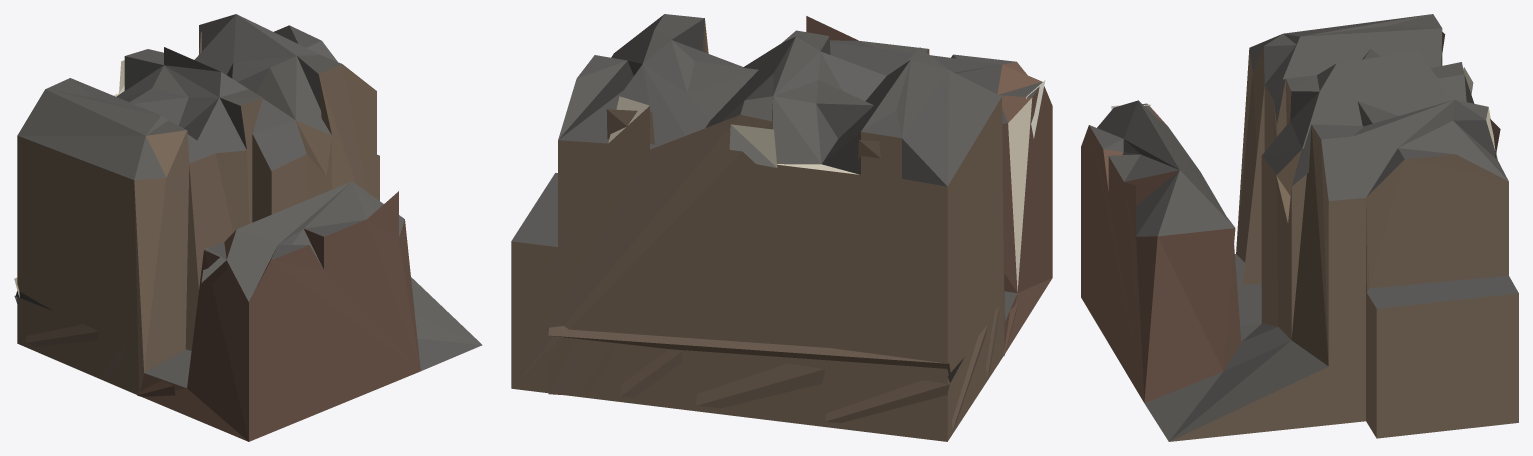
File: hotel-v-frederiksplein.lod2.glb
3 views of the same model, side by side, from view 1: azimuth 30°, elevation 25°; view 2: azimuth 150°, elevation 25°; view 3: azimuth 270°, elevation 25° (orthographic). The views are drawn at different scales.
Visible parts, largest first — view 1: lod2; view 2: lod2; view 3: lod2.
Part boxes in pixels (box(x1,y1,x2,y2)): lod2: box(14, 14, 482, 441); lod2: box(511, 14, 1052, 441); lod2: box(1081, 14, 1518, 441).
Size of the model in its own units: 25.96 by 18.66 by 26.08.
